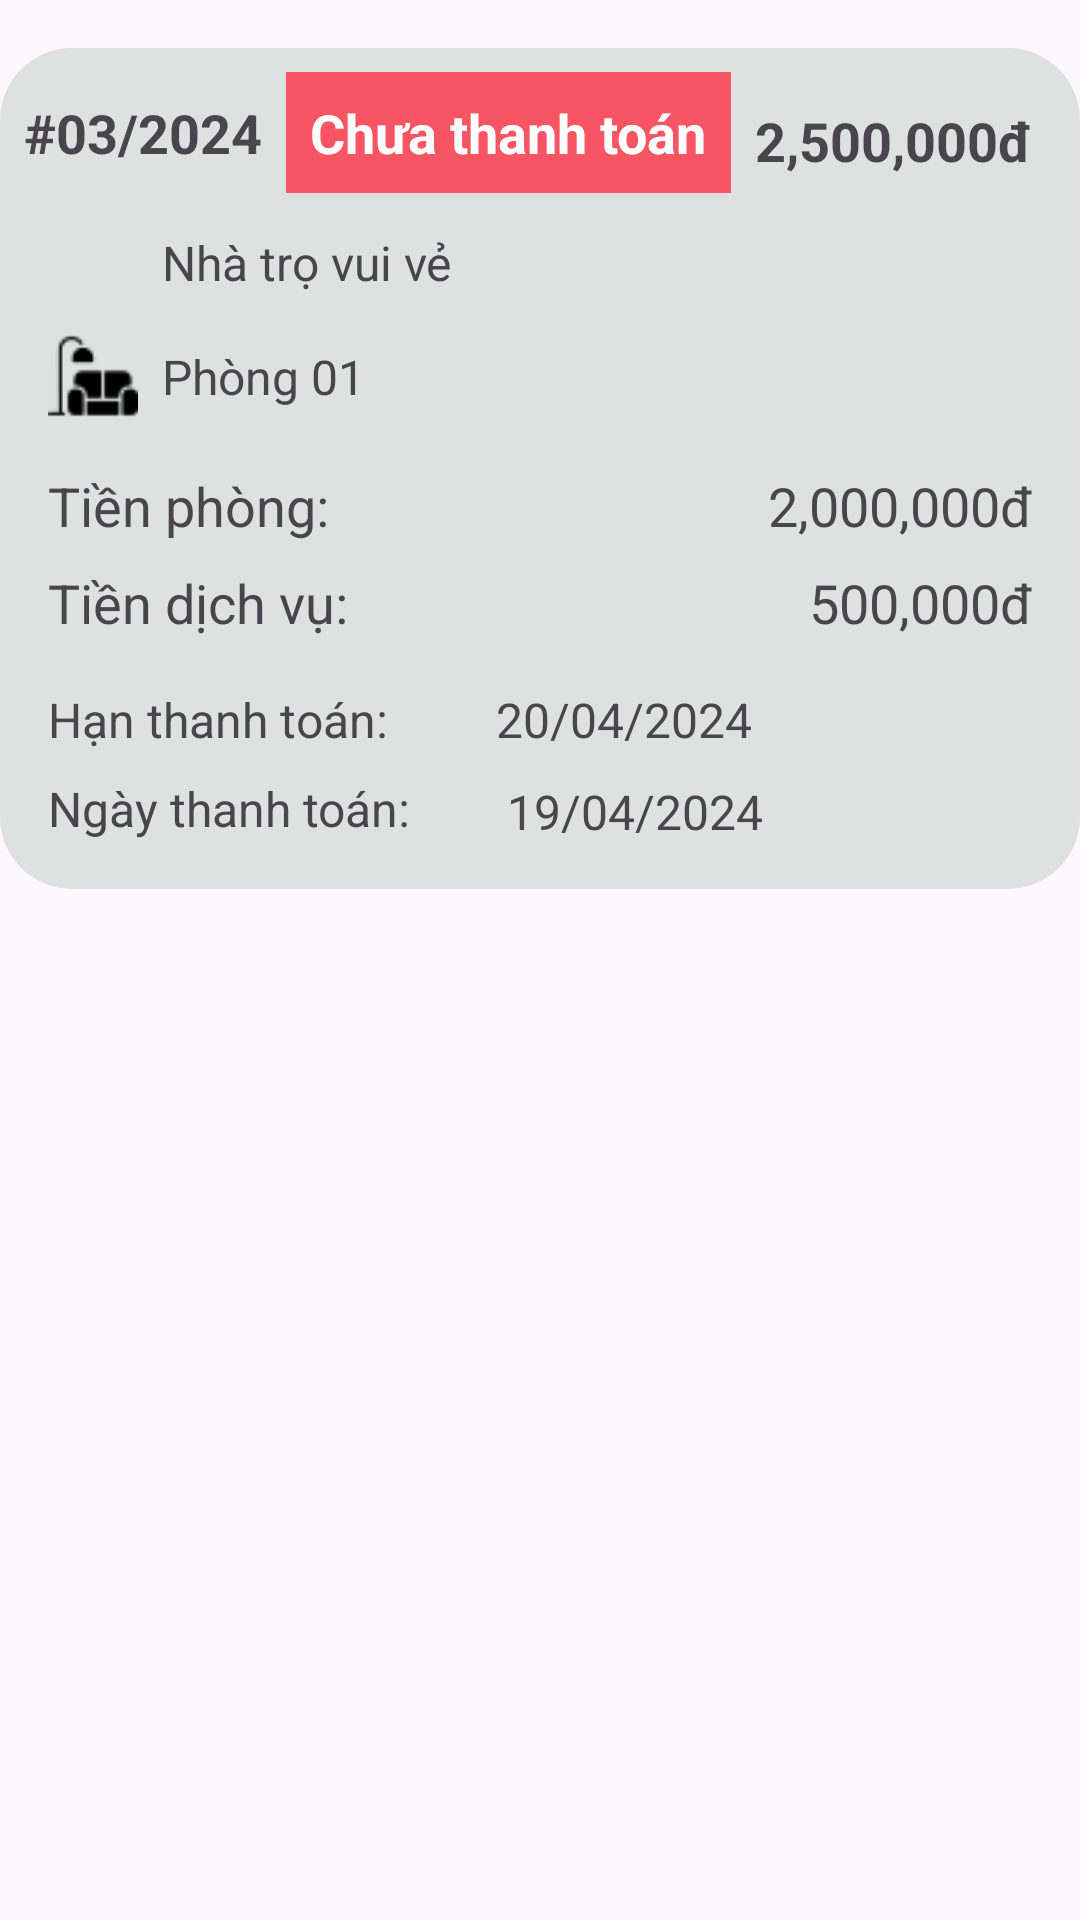

Where icons sit on this 1080w x 1920h app screen, as (x1, y1, x2, y2):
livingroom: (48, 336, 138, 416)
